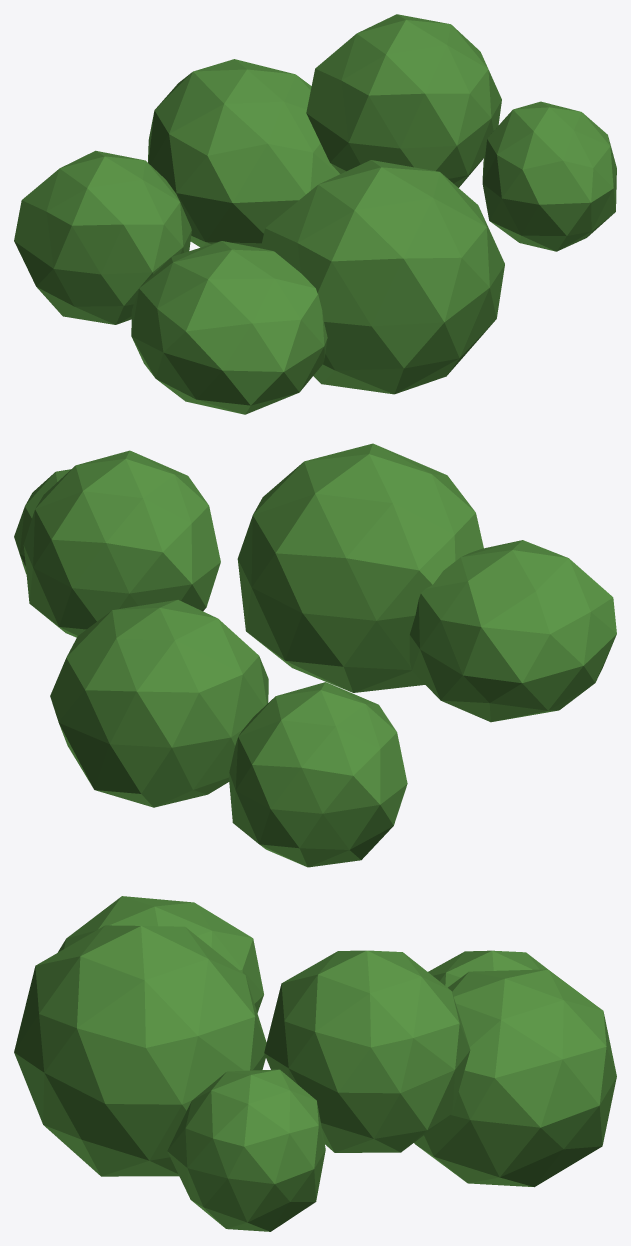
File: drevo.gltf
The picture shows the model from 3 angles, top to bottom: view 1: azimuth 30°, elevation 25°; view 2: azimuth 150°, elevation 25°; view 3: azimuth 270°, elevation 25°; orthographic projection. The views are drawn at different scales.
Parts seen in each view (by area): view 1: Icosphere.003, Icosphere.002, Icosphere.005, Icosphere.001, Icosphere.004, Icosphere; view 2: Icosphere.003, Icosphere.005, Icosphere.002, Icosphere.001, Icosphere.004, Icosphere; view 3: Icosphere.003, Icosphere.005, Icosphere.001, Icosphere, Icosphere.002, Icosphere.004.
Boxes of the visible parts, left/top/right/bottom form: Icosphere.003: left=261, top=160, right=504, bottom=394; Icosphere.002: left=131, top=241, right=327, bottom=414; Icosphere.005: left=148, top=59, right=339, bottom=248; Icosphere.001: left=306, top=14, right=501, bottom=187; Icosphere.004: left=14, top=150, right=191, bottom=324; Icosphere: left=482, top=101, right=616, bottom=251; Icosphere.003: left=237, top=443, right=483, bottom=692; Icosphere.005: left=50, top=600, right=268, bottom=807; Icosphere.002: left=409, top=540, right=616, bottom=722; Icosphere.001: left=23, top=450, right=220, bottom=637; Icosphere.004: left=229, top=682, right=407, bottom=867; Icosphere: left=14, top=469, right=71, bottom=574; Icosphere.003: left=14, top=925, right=266, bottom=1176; Icosphere.005: left=414, top=969, right=616, bottom=1187; Icosphere.001: left=264, top=950, right=470, bottom=1152; Icosphere: left=167, top=1069, right=325, bottom=1231; Icosphere.002: left=58, top=896, right=263, bottom=1012; Icosphere.004: left=428, top=950, right=547, bottom=987.
Size of the model in its own units: 9.58 by 5.11 by 9.1.
1 material, 1 textured.
